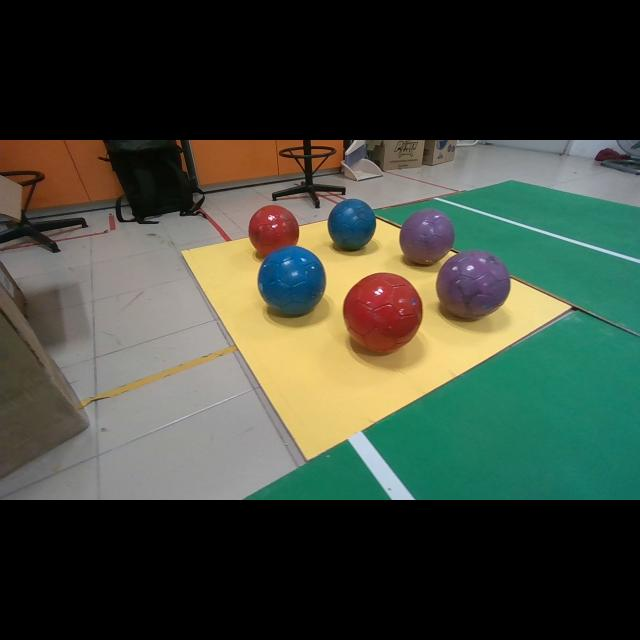B: (258, 245, 326, 315), (328, 199, 376, 250)
P: (436, 250, 510, 318), (400, 209, 455, 264)
R: (344, 272, 422, 352), (249, 205, 299, 255)
